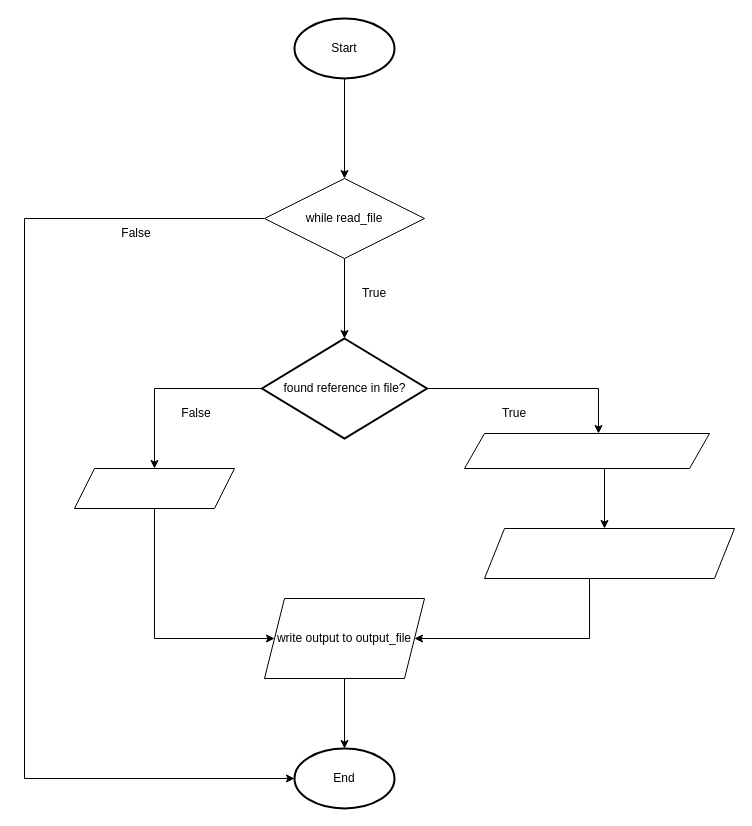
The diagram is 752 pixels wide and 826 high, and some of its shapes have lost their labels. Each missing label, with the centre of its shape:
go to index number of refence in window: [587,450]
output = all data until length of refence is reached: [609,553]
output = input_file data: [154,488]
